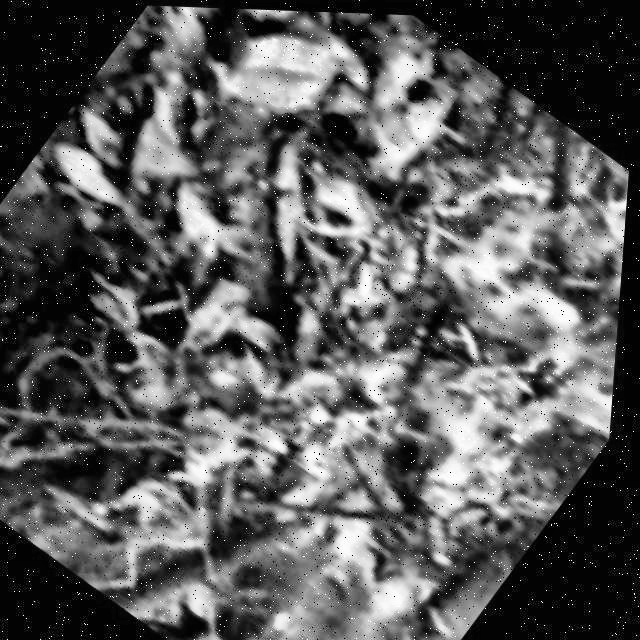Fire: (181, 83, 636, 640)
